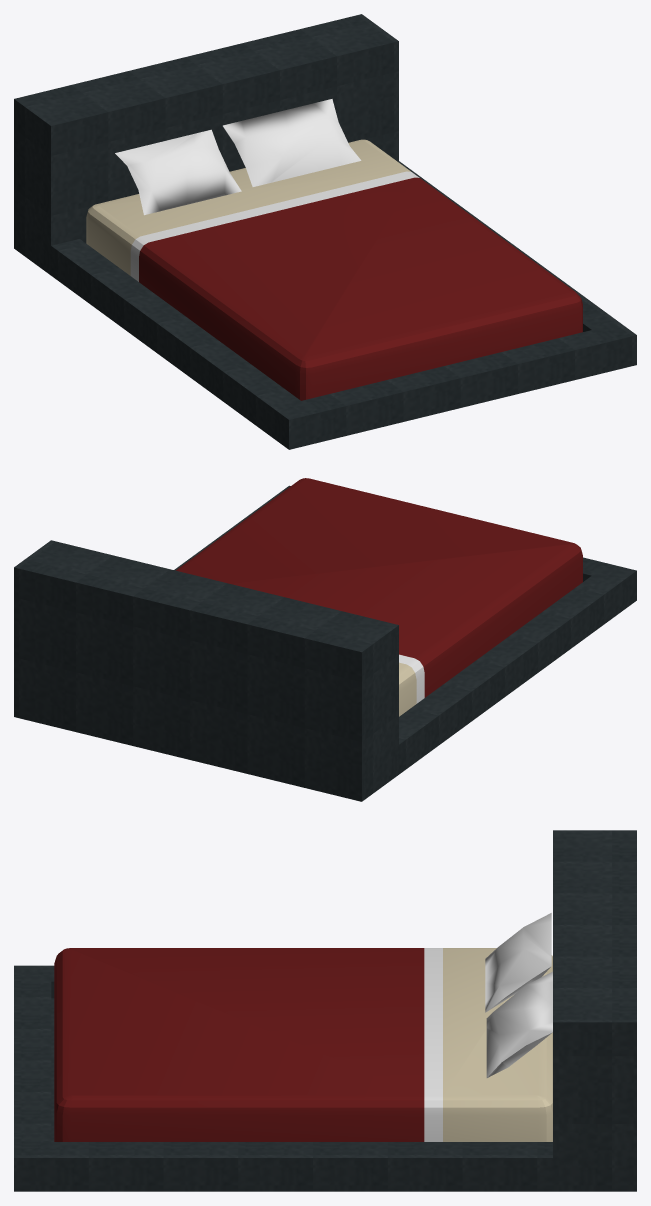
The model's file is ModernBed.dae.
3 views of the same model, one above another, from view 1: azimuth 30°, elevation 25°; view 2: azimuth 150°, elevation 25°; view 3: azimuth 270°, elevation 25° (orthographic). The views are drawn at different scales.
Parts seen in each view (by area): view 1: mattress (×3), bedframe, pillow (×2); view 2: bedframe, mattress (×3); view 3: mattress (×3), bedframe, pillow (×2).
Part boxes in pixels (bbox=[...]): mattress (×3): bbox=[86, 139, 582, 400]; bedframe: bbox=[14, 14, 636, 449]; pillow (×2): bbox=[115, 99, 361, 215]; bedframe: bbox=[14, 485, 636, 801]; mattress (×3): bbox=[176, 478, 582, 716]; mattress (×3): bbox=[54, 948, 552, 1141]; bedframe: bbox=[14, 830, 636, 1191]; pillow (×2): bbox=[485, 913, 552, 1077].
Size of the model in its own units: 73 by 100 by 30.
7 materials, 4 textured.
